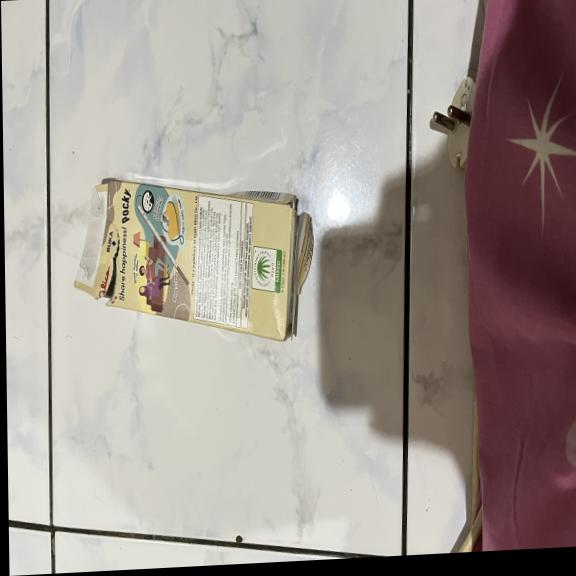Kertas: (100, 166, 302, 350)
